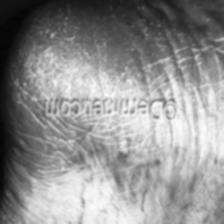Toxin: (28, 20, 84, 94)
